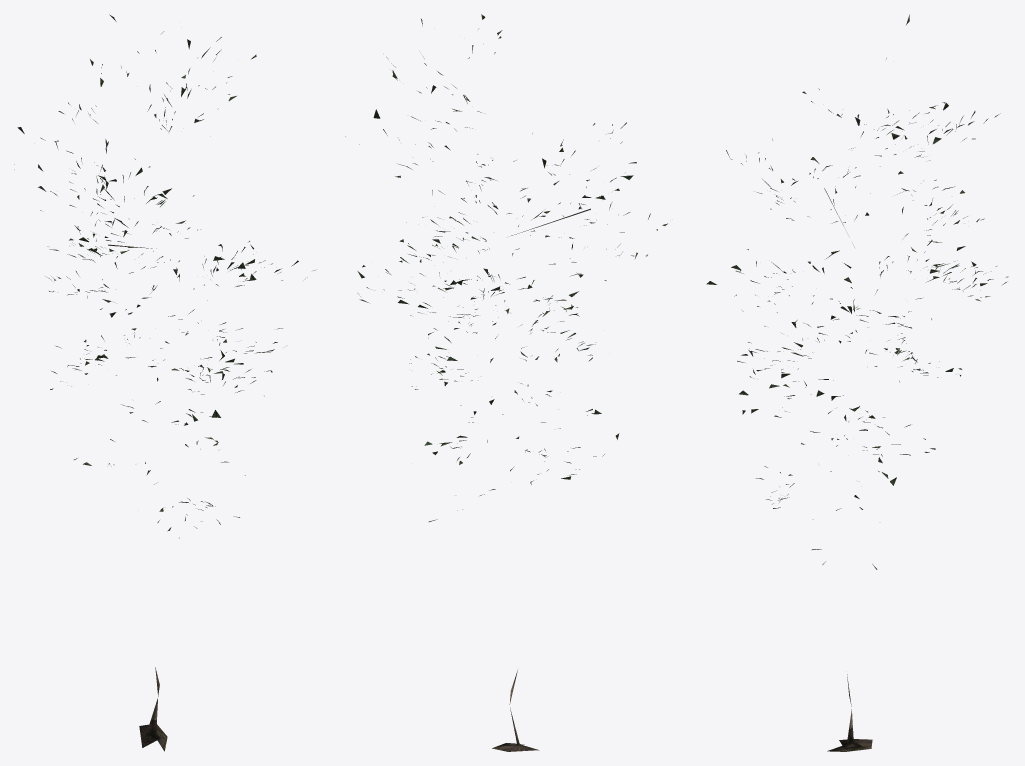
Rendered from tree_a_lod1.glb.
3 renders of one model, left to right at view 1: azimuth 30°, elevation 25°; view 2: azimuth 150°, elevation 25°; view 3: azimuth 270°, elevation 25°, orthographic. The views are drawn at different scales.
Parts seen in each view (by area): view 1: pine_tree_01_a_LOD0; view 2: pine_tree_01_a_LOD0; view 3: pine_tree_01_a_LOD0.
Part boxes in pixels (x1,y1,x2,y2): pine_tree_01_a_LOD0: [14, 14, 316, 751]; pine_tree_01_a_LOD0: [345, 14, 667, 751]; pine_tree_01_a_LOD0: [706, 14, 1008, 751].
Size of the model in its own units: 7.06 by 20.23 by 7.66.
3 materials, 3 textured.
